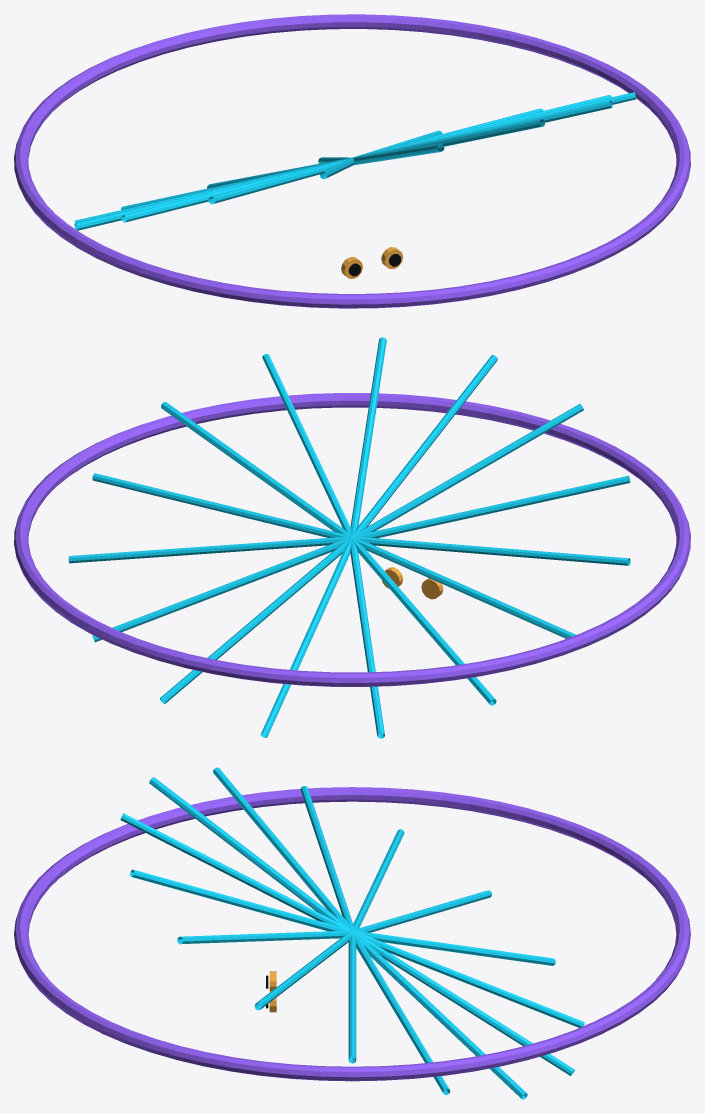
Rendered from 91_L90_PlasmaFieldVectorHologram.fbx.
3 renders of one model, top to bottom at view 1: azimuth 30°, elevation 25°; view 2: azimuth 150°, elevation 25°; view 3: azimuth 270°, elevation 25°, orthographic.
Parts seen in each view (by area): view 1: L90_PlasmaFieldVectorHologram_Part_0000, L90_PlasmaFieldVectorHologram_Part_0001; view 2: L90_PlasmaFieldVectorHologram_Part_0001, L90_PlasmaFieldVectorHologram_Part_0000; view 3: L90_PlasmaFieldVectorHologram_Part_0000, L90_PlasmaFieldVectorHologram_Part_0001.
Boxes of the visible parts, left/top/right/bottom form: L90_PlasmaFieldVectorHologram_Part_0000: left=14, top=14, right=690, bottom=308; L90_PlasmaFieldVectorHologram_Part_0001: left=74, top=92, right=636, bottom=230; L90_PlasmaFieldVectorHologram_Part_0001: left=68, top=337, right=630, bottom=738; L90_PlasmaFieldVectorHologram_Part_0000: left=14, top=393, right=690, bottom=686; L90_PlasmaFieldVectorHologram_Part_0000: left=14, top=787, right=690, bottom=1081; L90_PlasmaFieldVectorHologram_Part_0001: left=120, top=767, right=584, bottom=1099.
Bounding box in the file's own units: 409 × 144 × 409.
